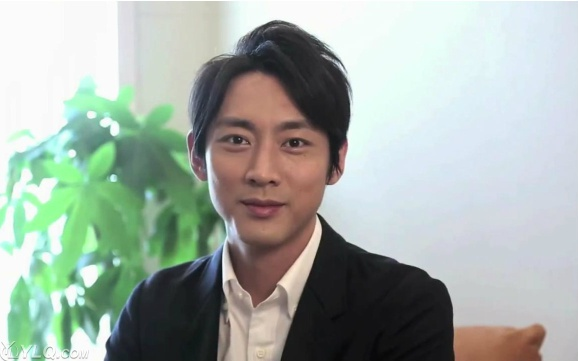male: (189, 28, 359, 260)
